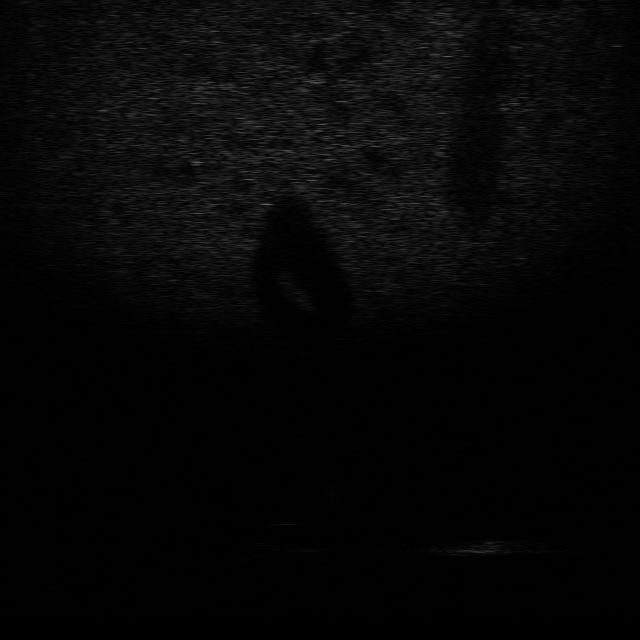ball: (310, 458, 351, 487)
metal bucket: (425, 532, 539, 558)
tyre: (248, 520, 342, 554)
